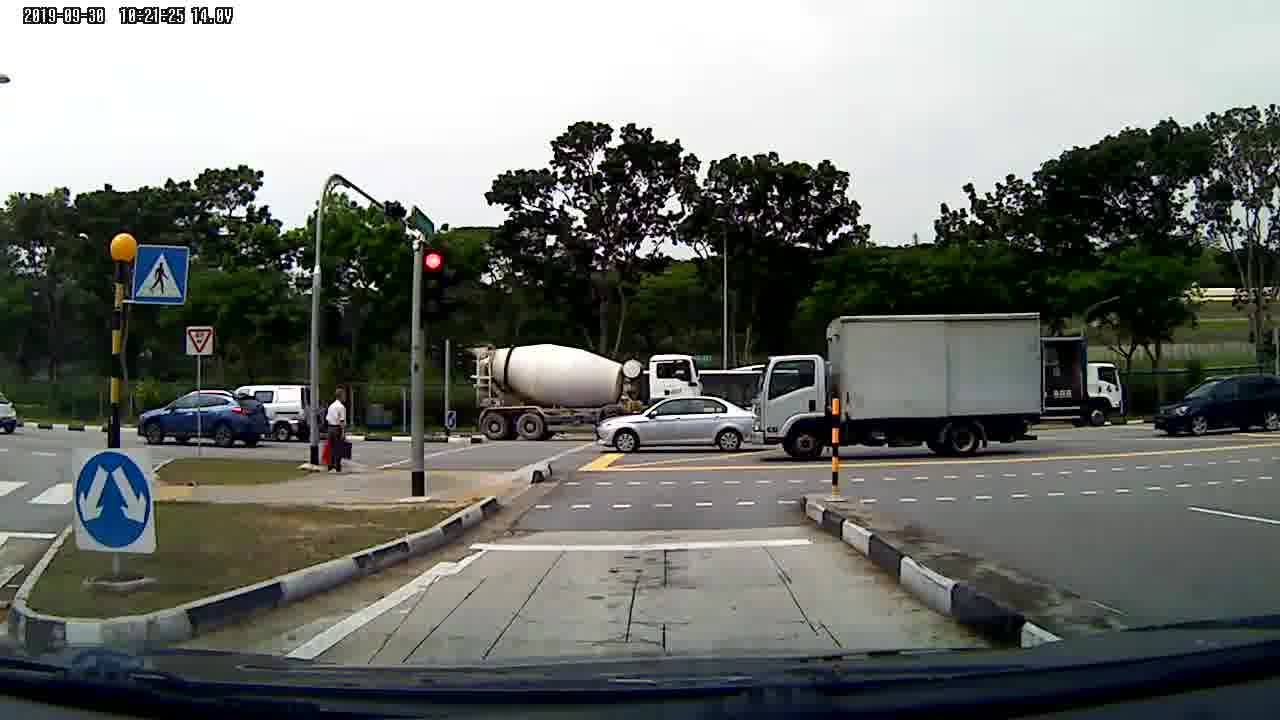car: (600, 400, 761, 453), (1152, 373, 1280, 438), (137, 391, 272, 449)
